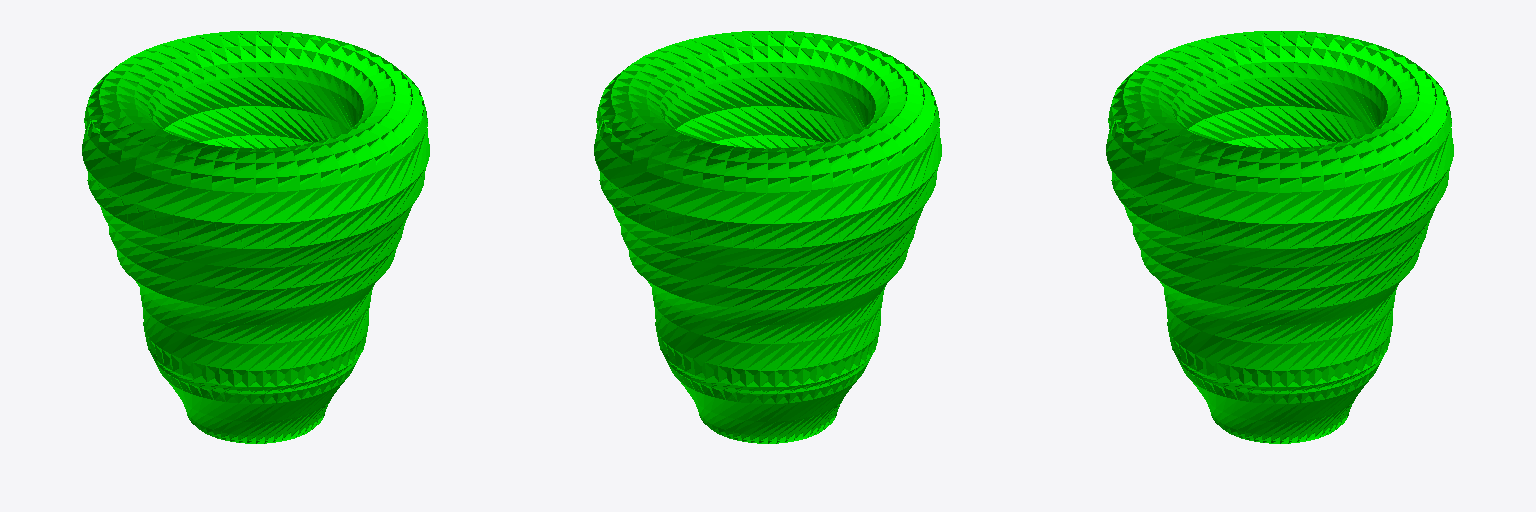
The model's file is Tornado.obj.
3 views of the same model, side by side, from view 1: azimuth 30°, elevation 25°; view 2: azimuth 150°, elevation 25°; view 3: azimuth 270°, elevation 25° (orthographic).
Visible parts, largest first — view 1: Tornado; view 2: Tornado; view 3: Tornado.
Part boxes in pixels (x1,y1,x2,y2): Tornado: (82, 31, 429, 443); Tornado: (594, 31, 941, 443); Tornado: (1106, 31, 1453, 443).
Size of the model in its own units: 4.87 by 5.02 by 4.87.